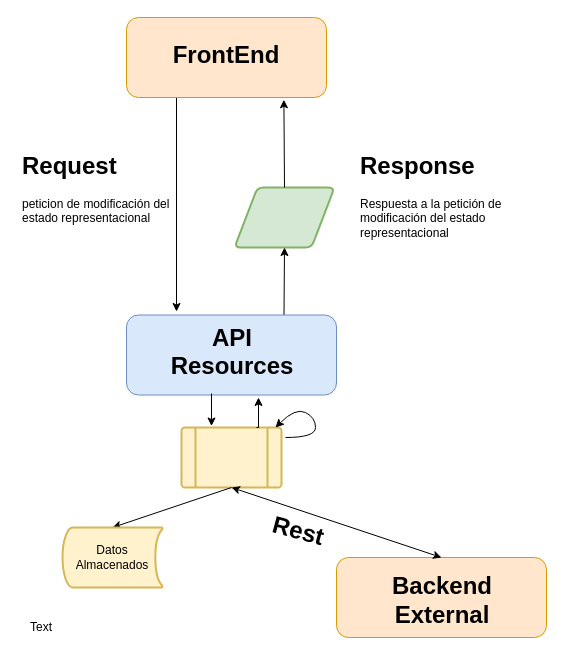
This 564x663 diagram has some shape labels left out. The shapes that lost their labels are listed below. From the top down, each one's centre as x and y in pixels, then its label:
At point (284, 217): "Datos".
At point (231, 457): "Proceso del recurso".
